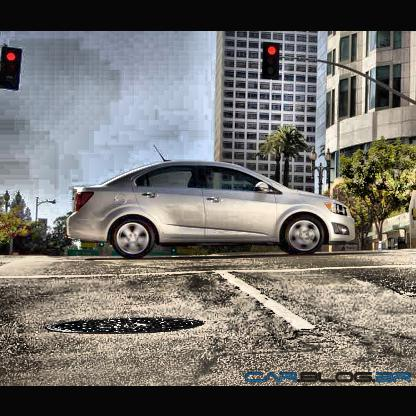Chevrolet Sonic Sedan 2012: (68, 146, 357, 260)
